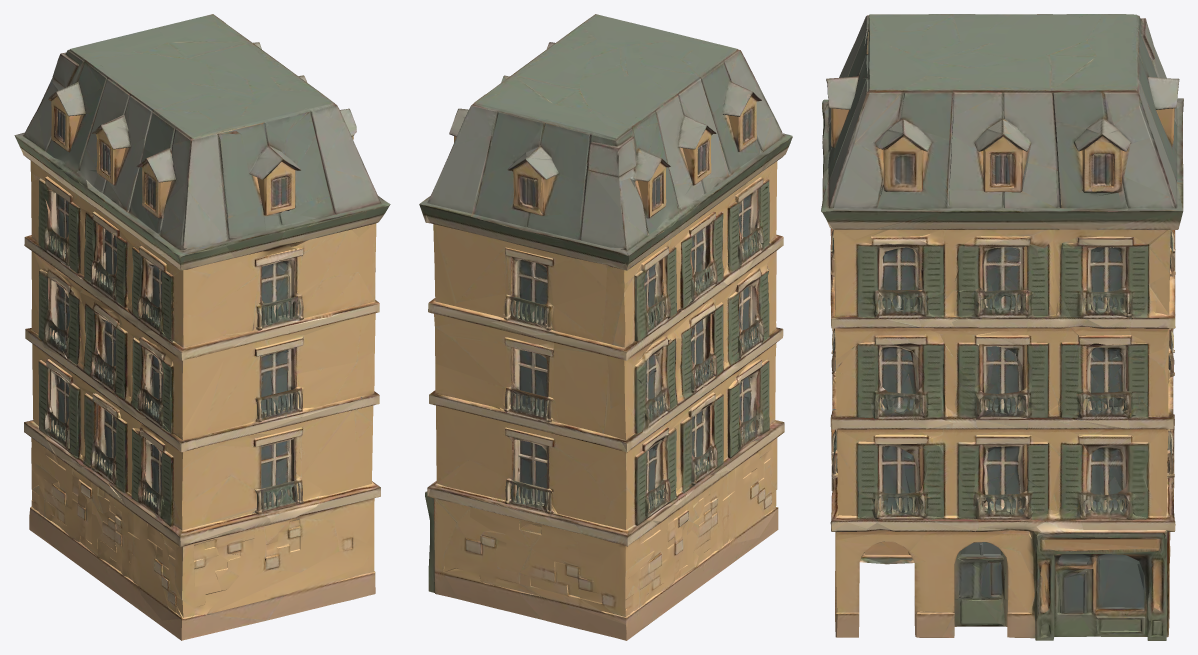
File: building1_meshopt.glb
3 views of the same model, side by side, from view 1: azimuth 30°, elevation 25°; view 2: azimuth 150°, elevation 25°; view 3: azimuth 270°, elevation 25° (orthographic). The views are drawn at different scales.
Parts seen in each view (by area): view 1: output_unwrapped; view 2: output_unwrapped; view 3: output_unwrapped.
Part boxes in pixels (x1=…): output_unwrapped: x1=14, y1=14, x2=390, y2=640; output_unwrapped: x1=419, y1=14, x2=792, y2=640; output_unwrapped: x1=821, y1=14, x2=1183, y2=640.
Bounding box in the file's own units: 0.9134 × 2 × 1.23.
Materials: 1 (1 with a texture image).
